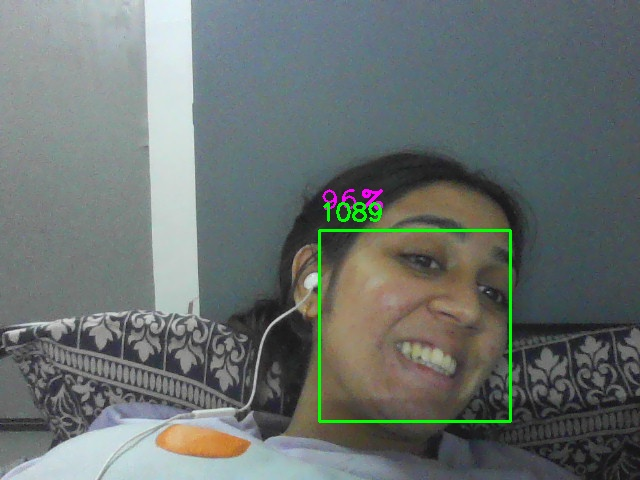real: (319, 230, 511, 422)
